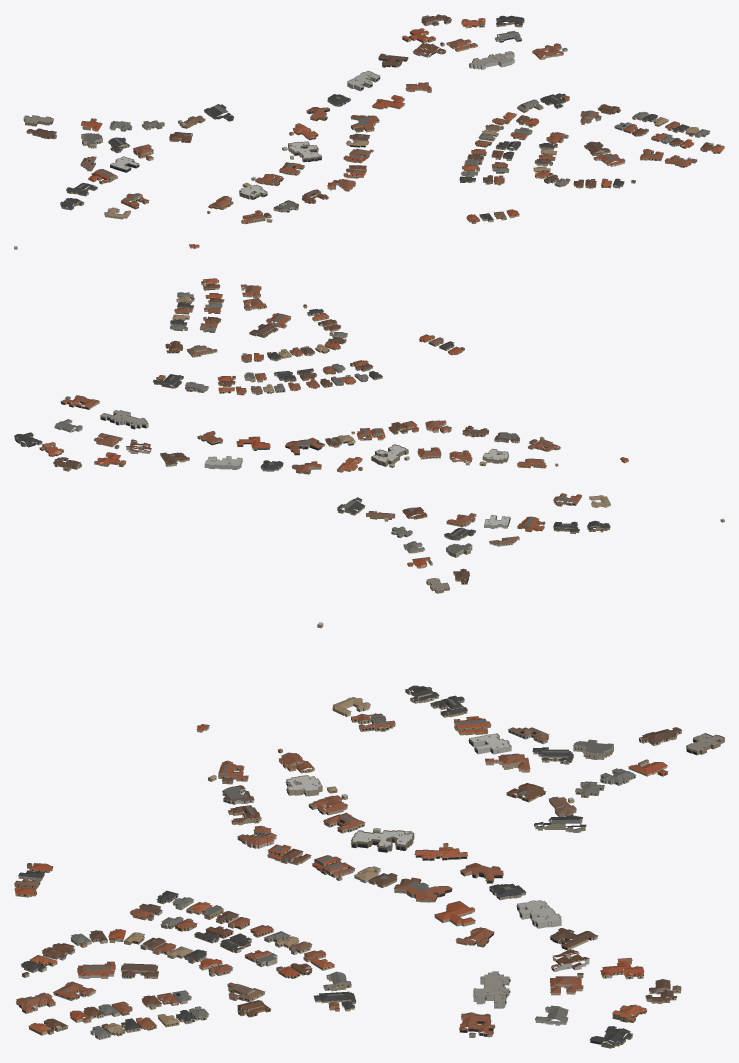
The picture shows the model from 3 angles, top to bottom: view 1: azimuth 30°, elevation 25°; view 2: azimuth 150°, elevation 25°; view 3: azimuth 270°, elevation 25°; orthographic projection. The views are drawn at different scales.
Parts seen in each view (by area): view 1: buildings_r6_c1_lod0; view 2: buildings_r6_c1_lod0; view 3: buildings_r6_c1_lod0.
Boxes of the visible parts, <box> form: buildings_r6_c1_lod0: <box>14,14,724,249</box>; buildings_r6_c1_lod0: <box>14,278,724,593</box>; buildings_r6_c1_lod0: <box>14,622,724,1048</box>.
Size of the model in its own units: 1135 by 52.79 by 768.
